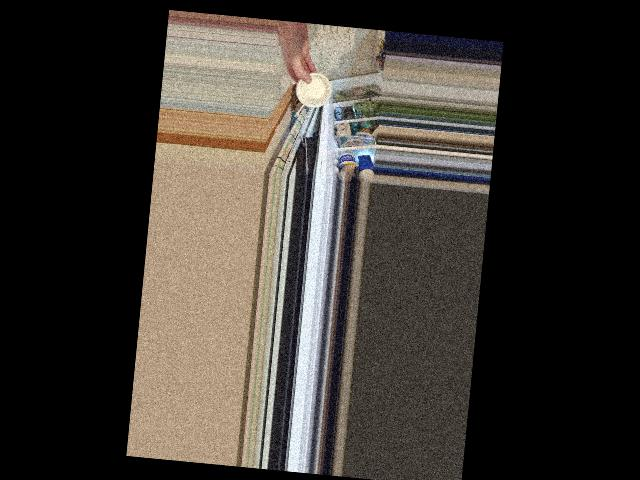cotage: (293, 72, 333, 111)
